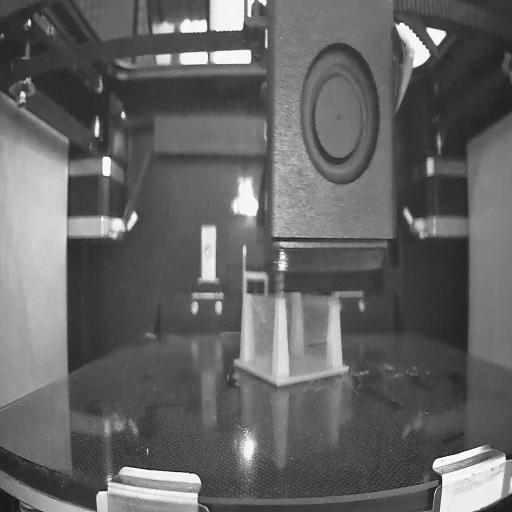stringing: (287, 293, 333, 383), (248, 292, 275, 379)
